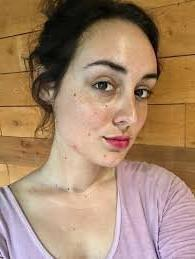Drunk: (76, 30, 154, 166)
